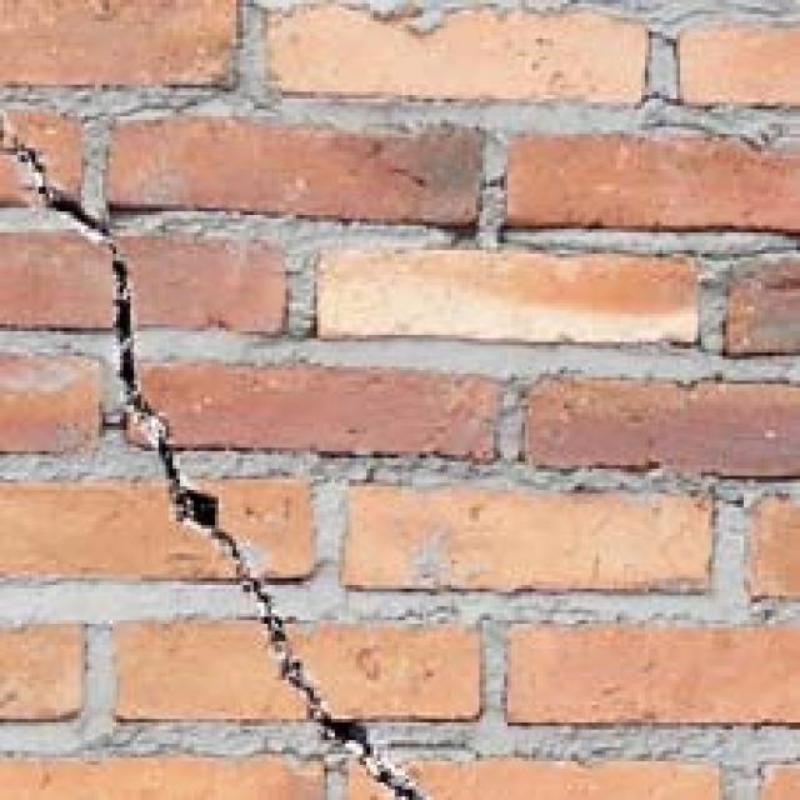crack: (238, 562, 425, 800), (113, 245, 238, 559), (12, 151, 111, 238)
